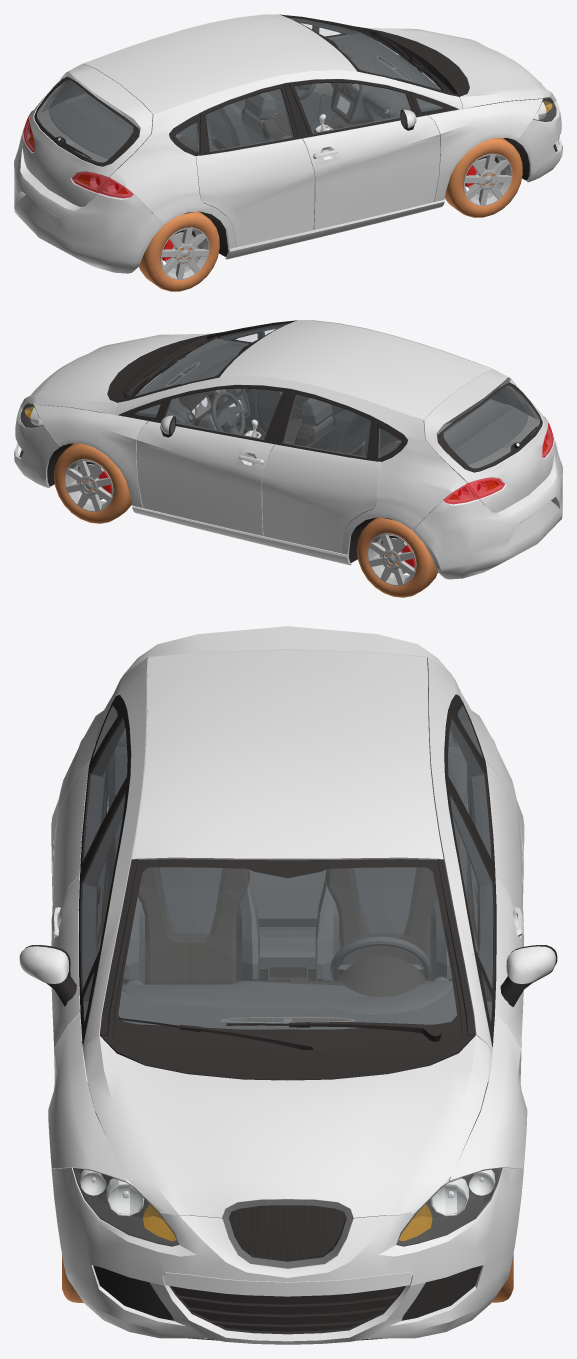
The model's file is SEDAN16.obj.
3 views of the same model, one above another, from view 1: azimuth 30°, elevation 25°; view 2: azimuth 150°, elevation 25°; view 3: azimuth 270°, elevation 25° (orthographic). The views are drawn at different scales.
Parts seen in each view (by area): view 1: 16; view 2: 16; view 3: 16.
Part boxes in pixels (bbox=[...]): 16: bbox=[14, 14, 562, 291]; 16: bbox=[14, 320, 562, 597]; 16: bbox=[19, 626, 557, 1344].
Size of the model in its own units: 4.31 by 1.45 by 1.98.
